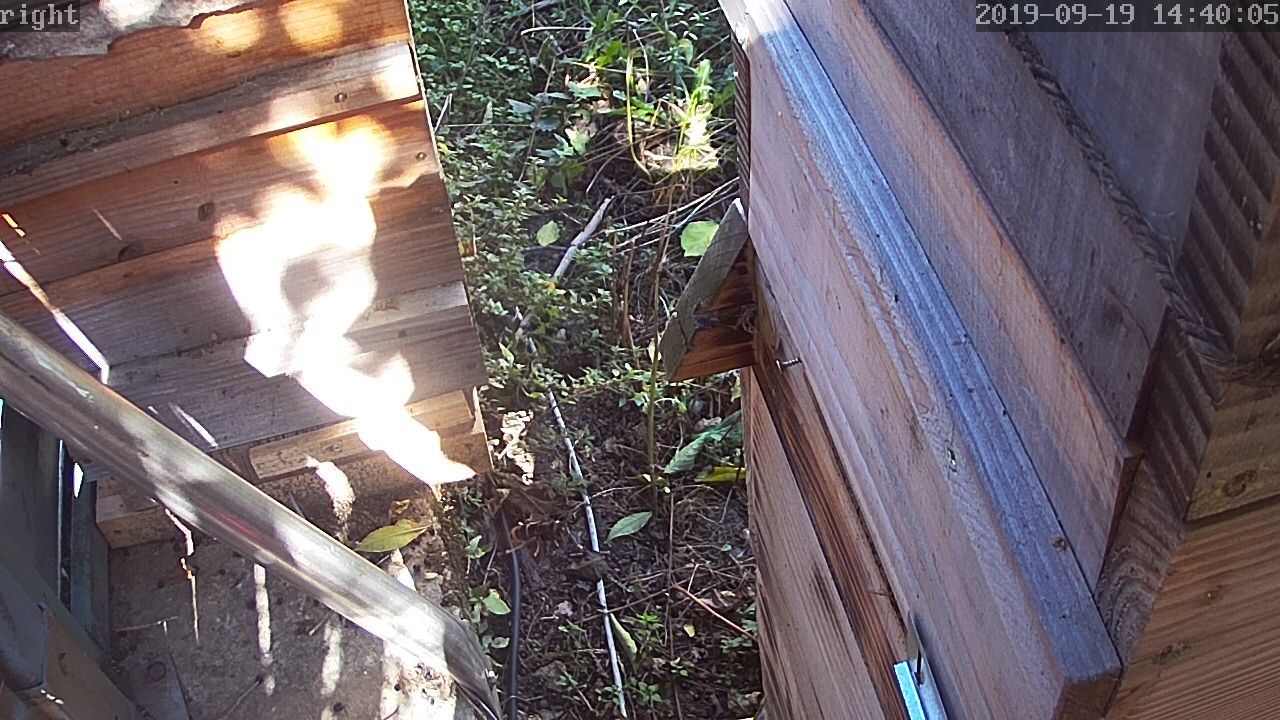hornet: (17, 28, 1244, 720)
